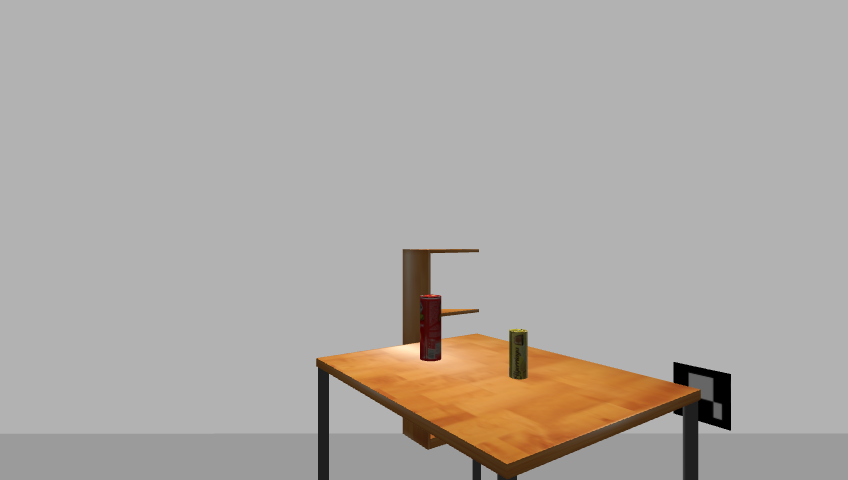aruco marker: (668, 361, 736, 432)
biscuits pack: (507, 329, 529, 381)
bookshelf: (399, 243, 485, 455)
dinner table: (309, 333, 708, 480)
pringles can: (417, 294, 443, 363)
